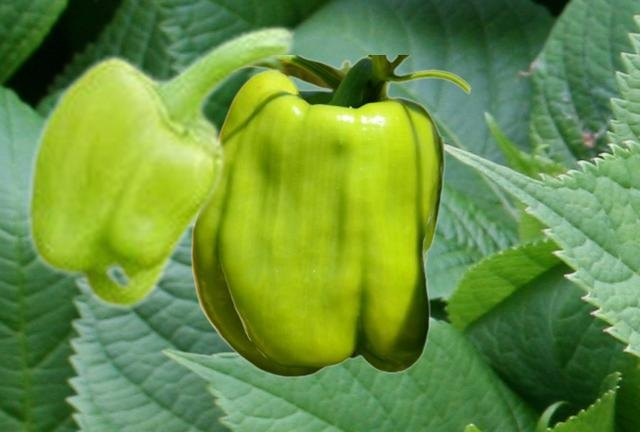bell_pepper: (190, 55, 470, 377), (24, 23, 296, 310)
